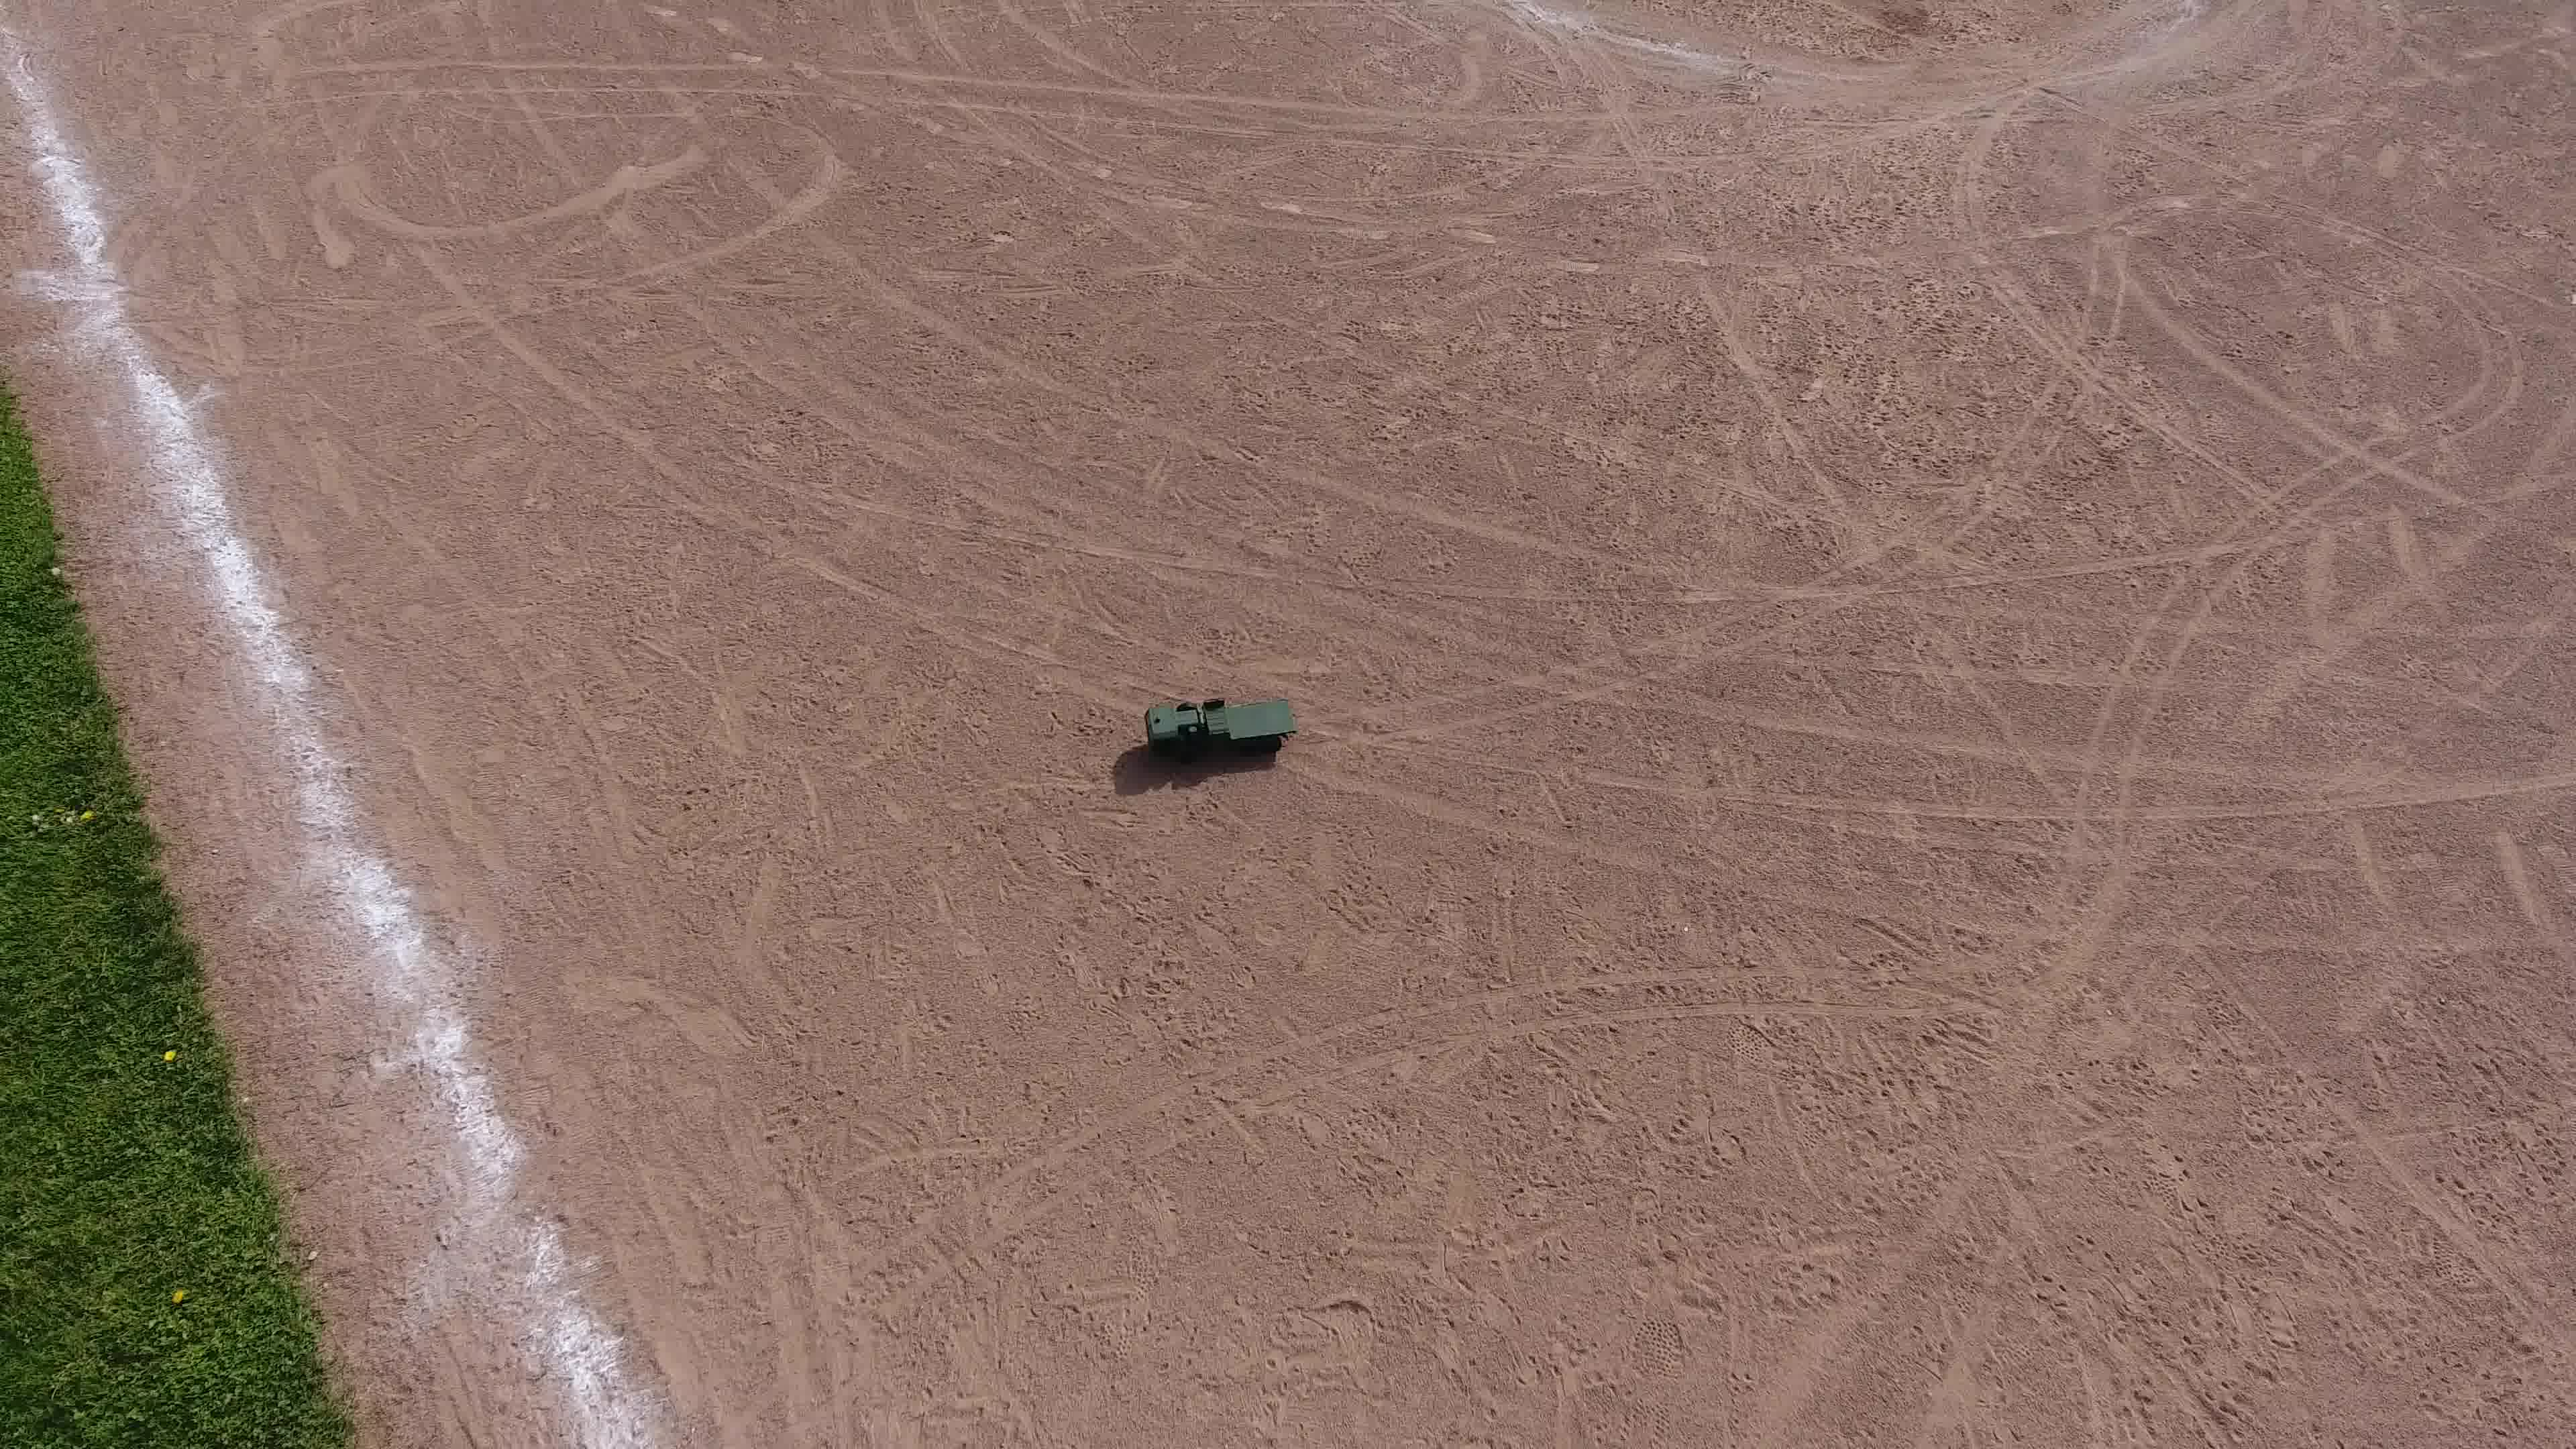transporter9: (1139, 688, 1302, 770)
